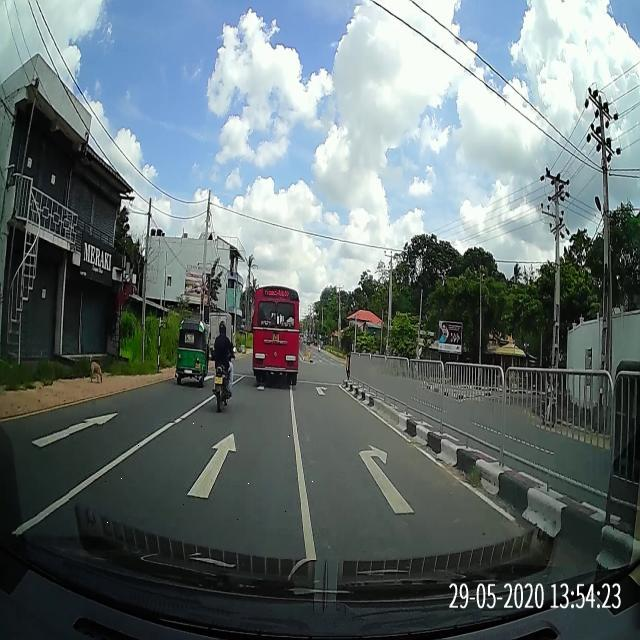forward: (70, 423, 322, 539)
